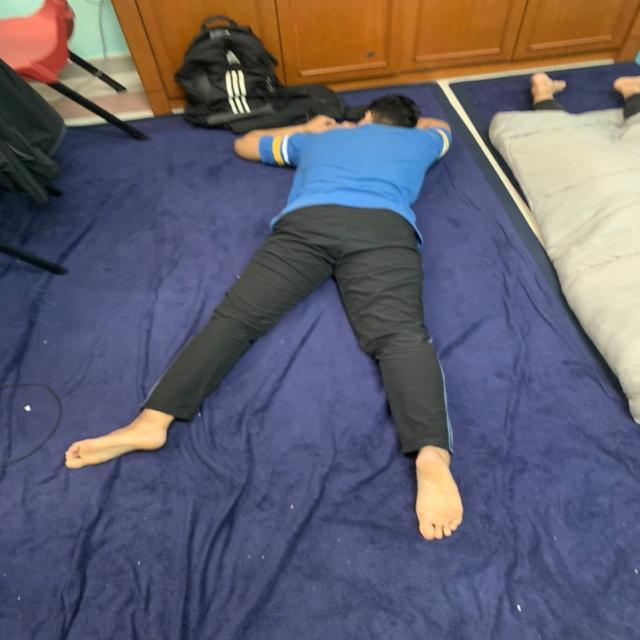Fall-Detected: (61, 93, 478, 547)
